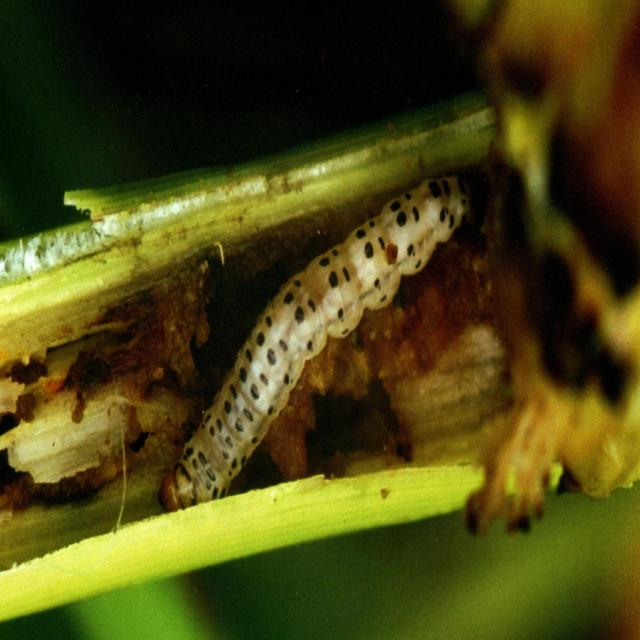peach borer: (134, 170, 479, 503)
